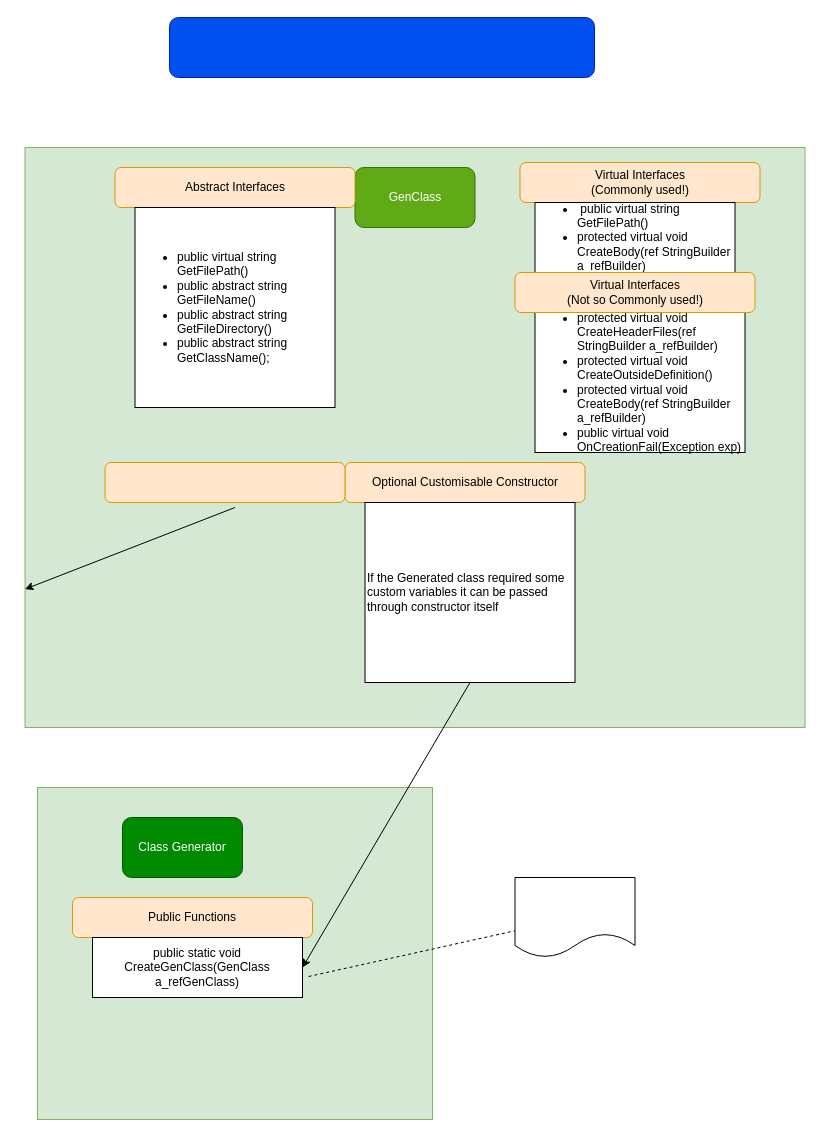
The diagram is 822 pixels wide and 1137 high, and some of its shapes have lost their labels. The shapes that lost their labels are listed below. From the top down, each one's centre as x and y in pixels, then its label:
[381,47]: CLASS Generator Flow
[224,482]: Default Constructor
[574,917]: Created Code Generated Files
